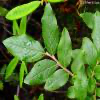Blueberry leaf: (2, 33, 46, 61), (39, 1, 59, 57), (23, 59, 59, 85), (57, 25, 73, 68), (81, 34, 99, 70), (74, 60, 90, 99), (43, 69, 71, 90), (70, 44, 84, 74)
